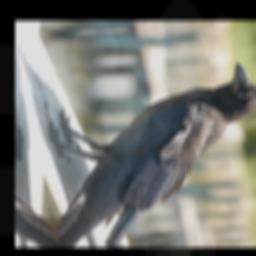Crow: (23, 60, 256, 246)
